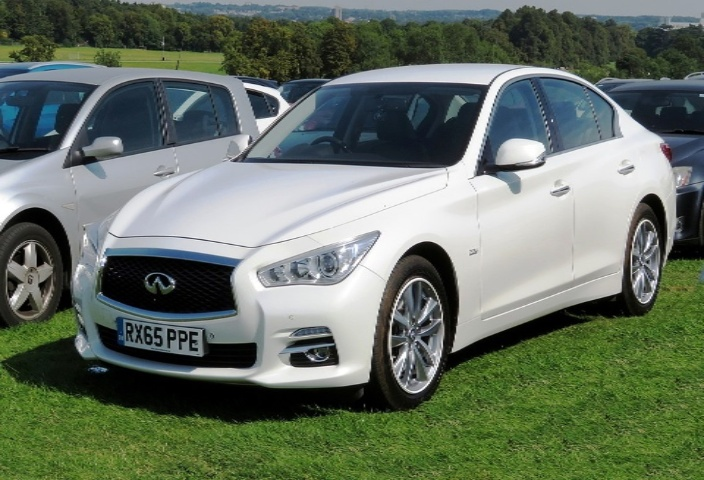car: (74, 50, 681, 407), (2, 59, 272, 300), (587, 61, 704, 259)
